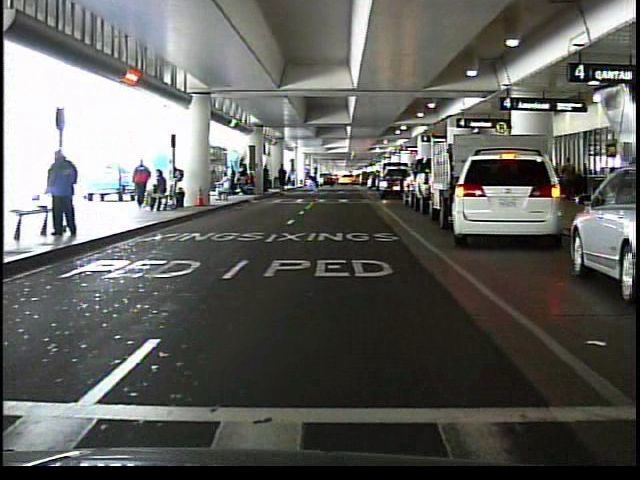person: (46, 145, 87, 239), (213, 170, 233, 205), (308, 163, 323, 192)
